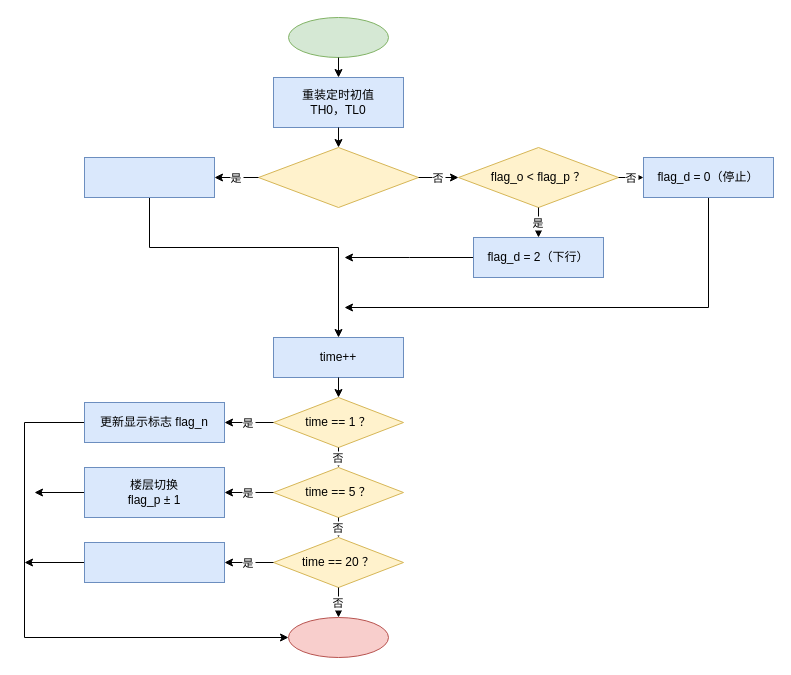
Image size: 791x675. Some labels were removed from this diagram. Each missing label, with the centre of its shape:
flag_d = 1（上行）: point 149,177
flag_o > flag_p ？: point 338,177
time = 0: point 154,562
开始: point 338,37
结束: point 338,637
